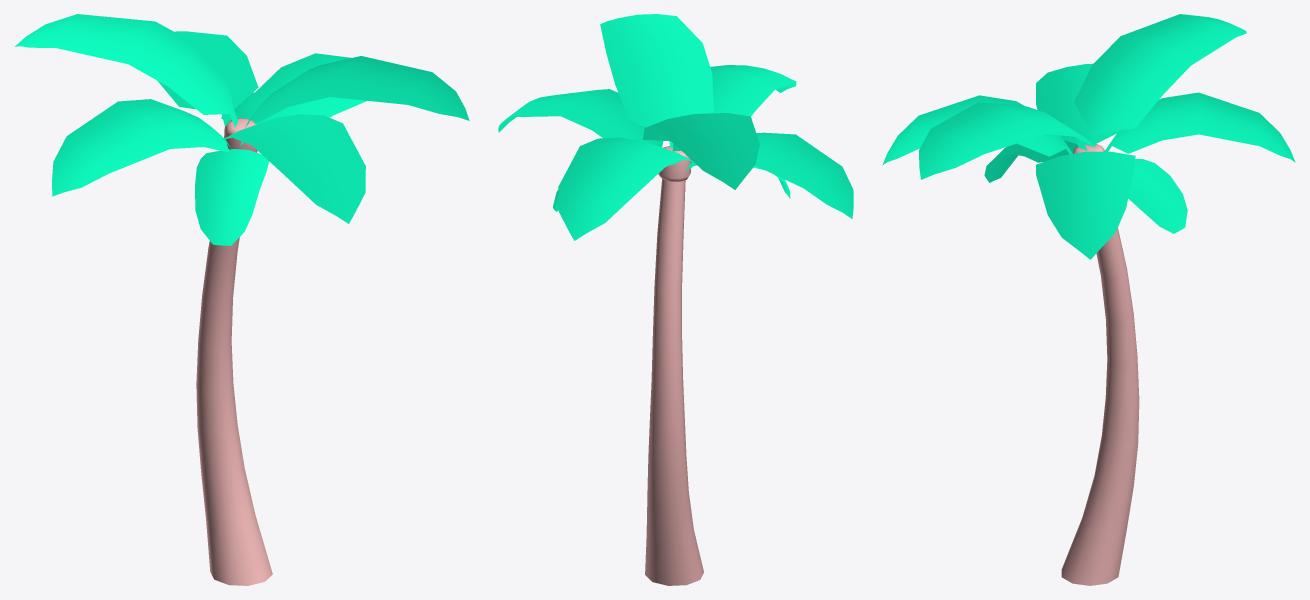
The model's file is tree_palm.glb.
The picture shows the model from 3 angles, left to right: view 1: azimuth 30°, elevation 25°; view 2: azimuth 150°, elevation 25°; view 3: azimuth 270°, elevation 25°; orthographic projection. The views are drawn at different scales.
Visible parts, largest first — view 1: trees_palm_mesh; view 2: trees_palm_mesh; view 3: trees_palm_mesh.
Boxes of the visible parts, x1,y1,x2,y2 form: trees_palm_mesh: (15,14,469,585); trees_palm_mesh: (498,14,853,585); trees_palm_mesh: (882,14,1295,585).
Bounding box in the file's own units: 5.2 × 7 × 5.24.
